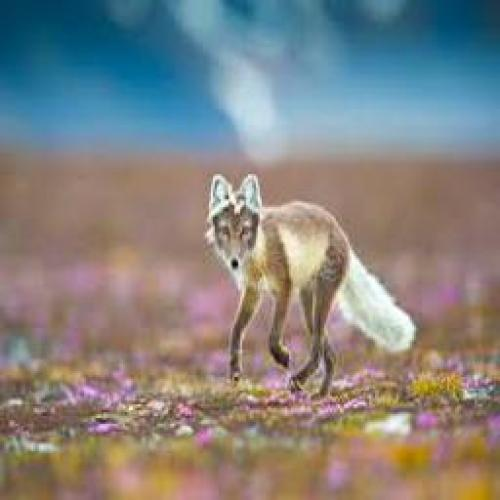arctic_fox-endangered: (202, 171, 415, 400)
